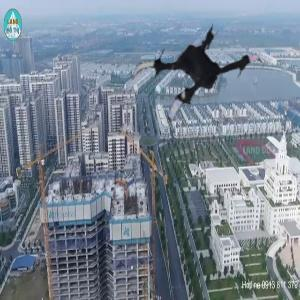drone: (130, 13, 264, 147)
